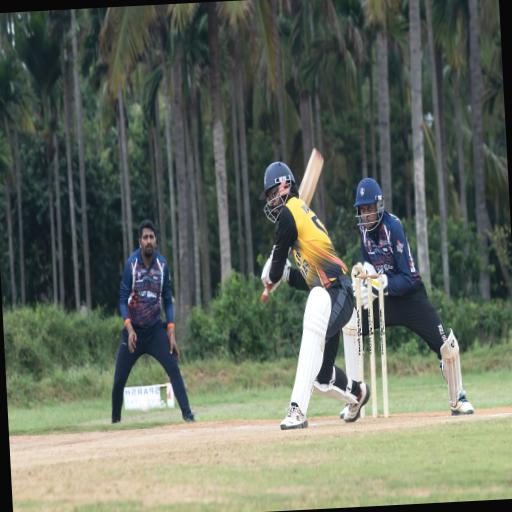shoe: (343, 382, 369, 423), (280, 404, 307, 430), (450, 391, 472, 416), (338, 404, 348, 419), (182, 413, 194, 422), (111, 420, 119, 424)
